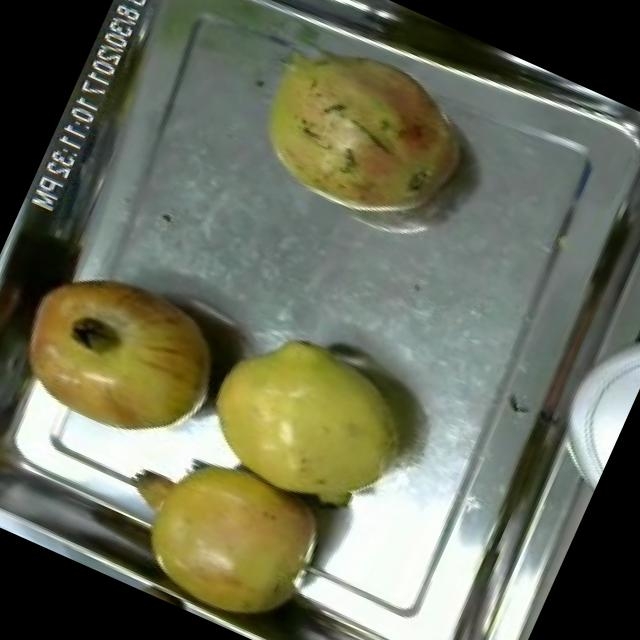fruit: (225, 13, 502, 259), (178, 301, 444, 542), (0, 241, 247, 471), (103, 426, 352, 640), (622, 231, 640, 366)
